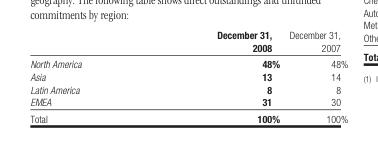table: (29, 28, 347, 123)
table column: (148, 28, 283, 123), (29, 28, 148, 123), (283, 28, 347, 123)
table column header: (29, 28, 347, 55)
table row: (29, 28, 347, 55), (29, 55, 347, 70), (29, 95, 347, 109), (29, 109, 347, 123), (29, 82, 347, 95), (29, 70, 347, 82)
